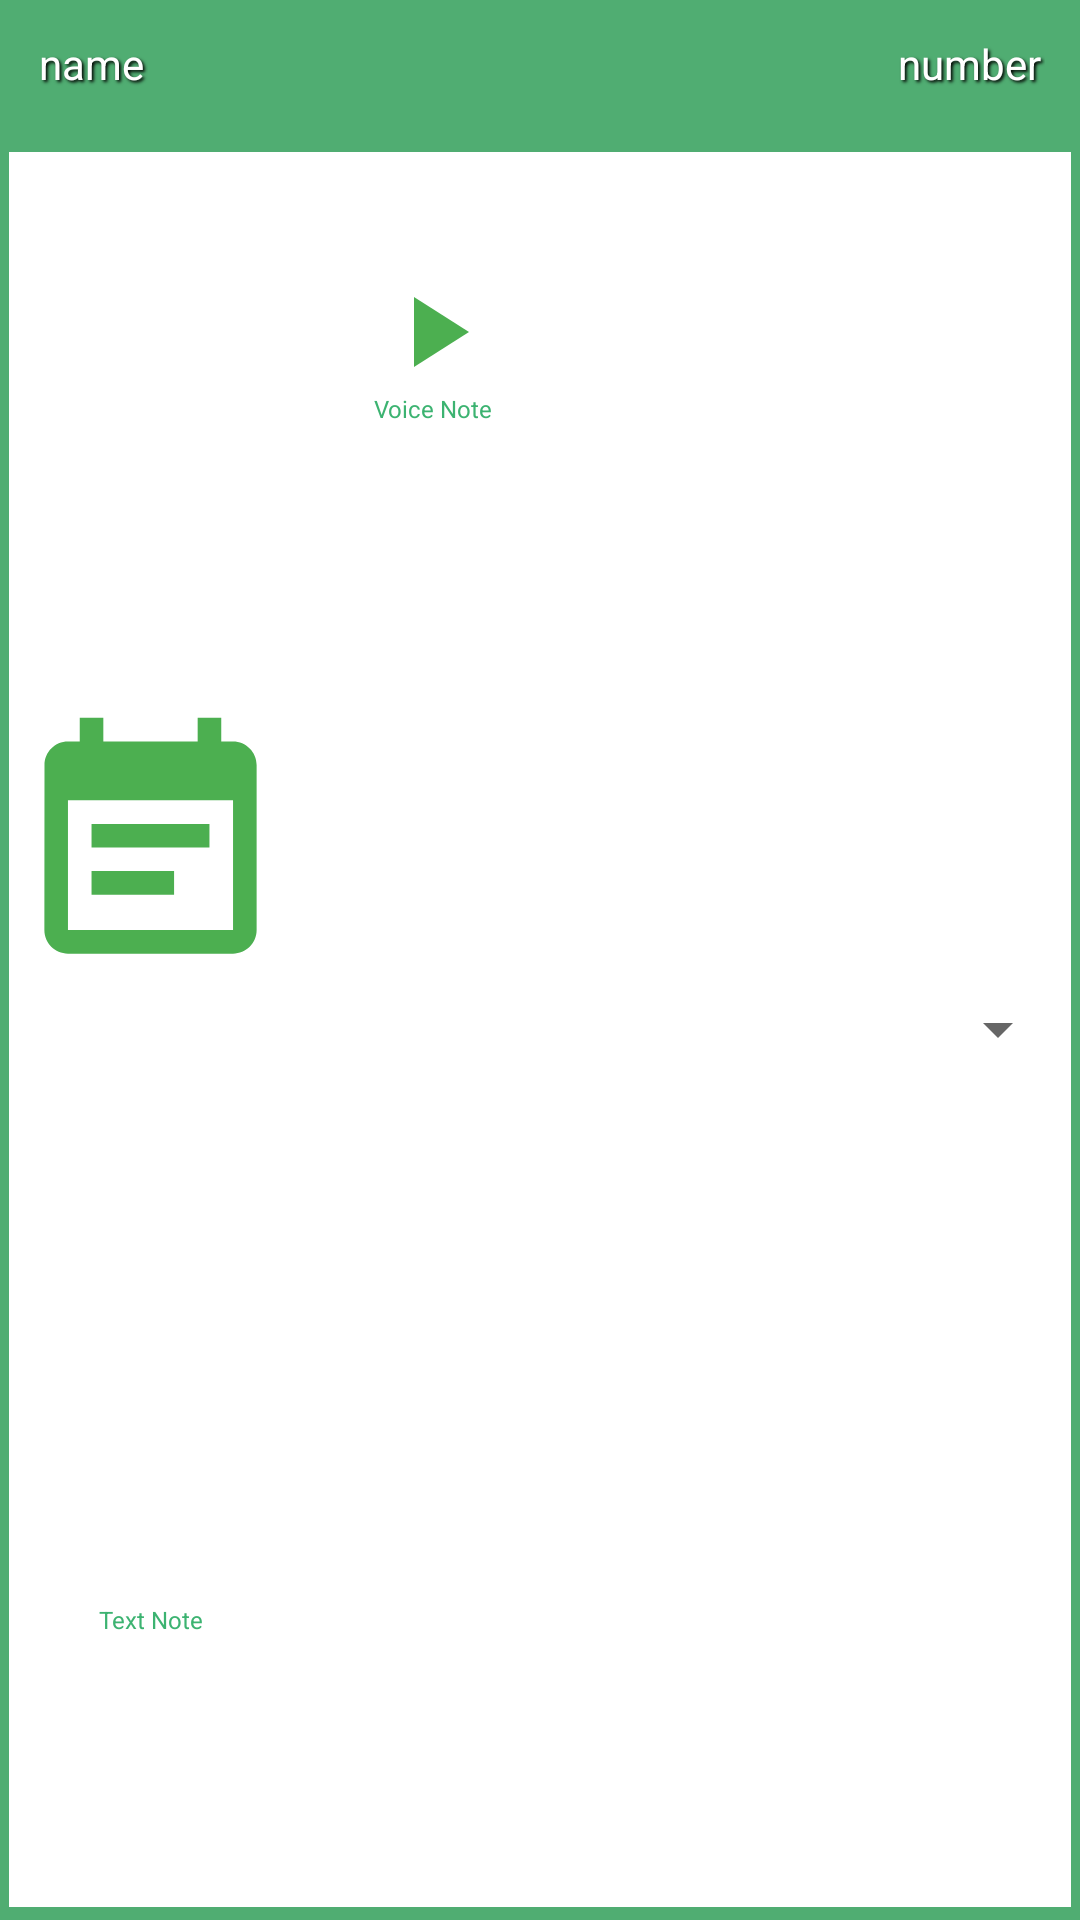

Where to tap for icons on this 1080 x 1920 app screen, as (x=x, y=y):
event note: (x=150, y=835)
play: (x=441, y=332)
